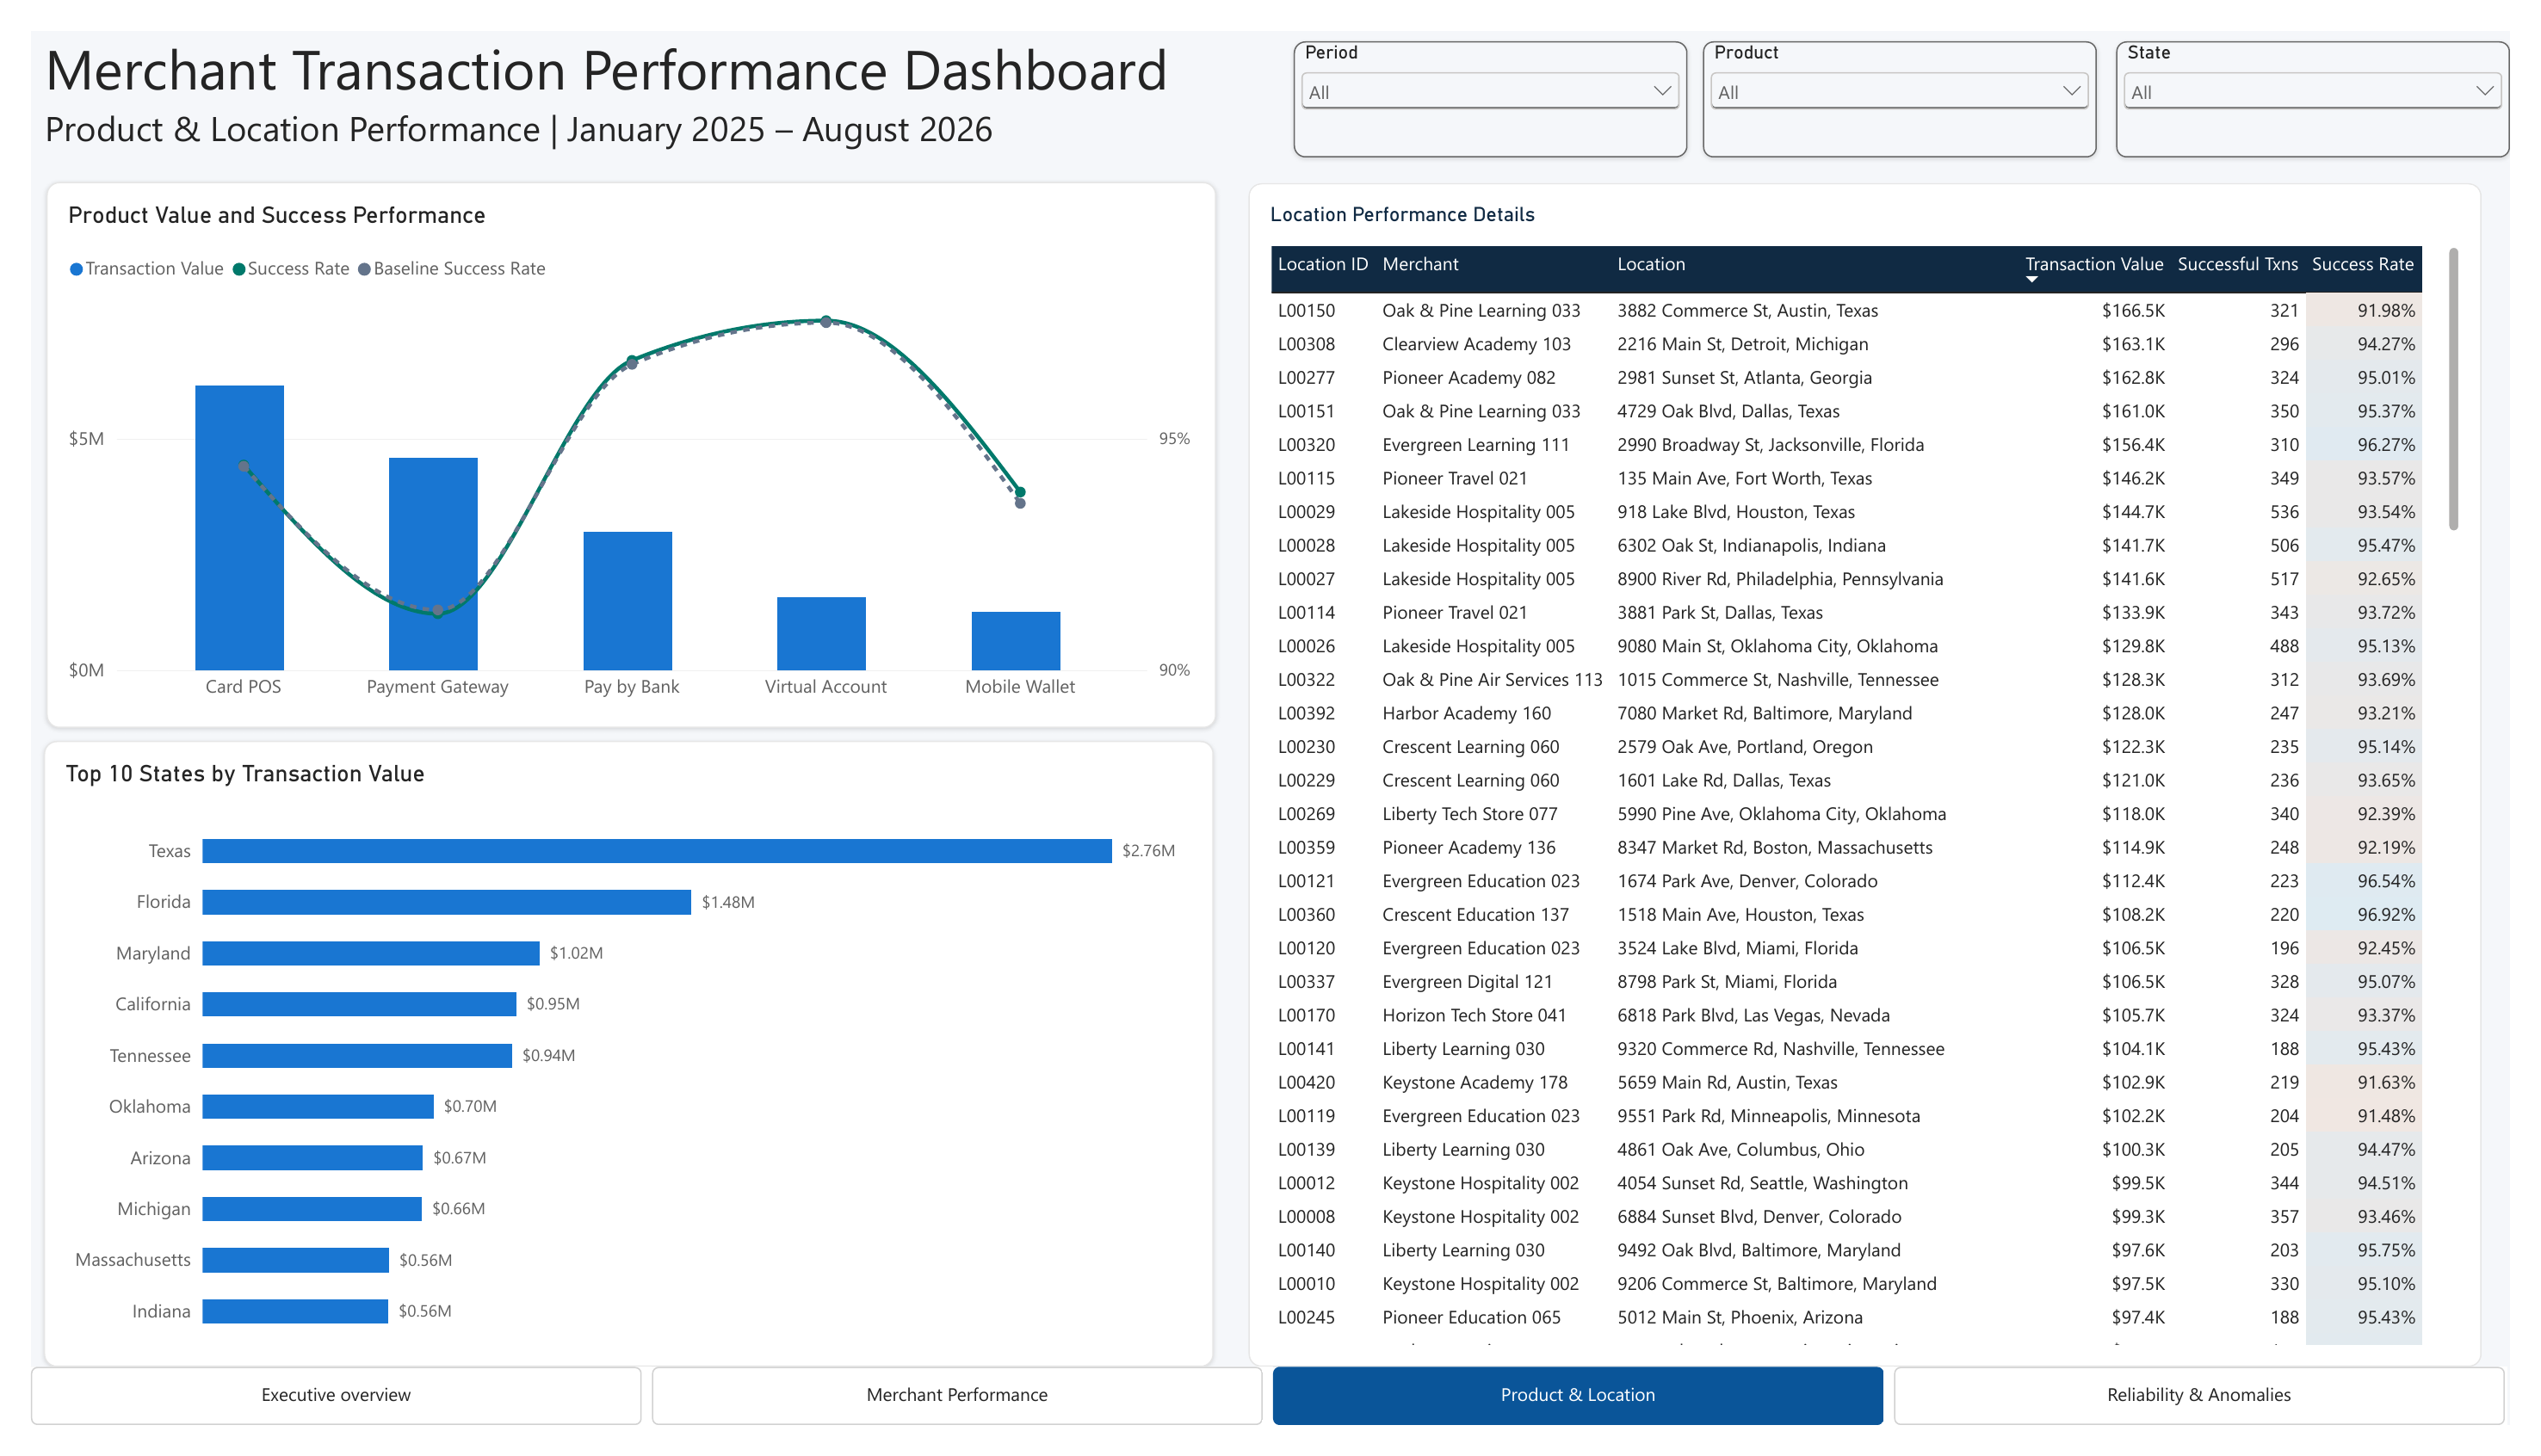

The page's visual inventory and layout, read from the dashboard file:
{"tool":"powerbi","page":{"name":"Product & Location","canvas":[1920,1080],"ordinal":2},"visuals":[{"type":"textbox","box":[10.9,0,906.1,118],"z":0},{"type":"slicer","fields":{"Values":["DimDate.Month Year"]},"box":[977.5,7.5,305,90],"z":1000},{"type":"slicer","fields":{"Values":["locations.state"]},"box":[1615,7.5,305,90],"z":2000},{"type":"slicer","fields":{"Values":["products.product_name"]},"box":[1295,7.5,305,90],"z":3000},{"type":"lineClusteredColumnComboChart","title":"Product Value and Success Performance","fields":{"Category":["products.product_name"],"Y":["_Measures.Transaction Value"],"Y2":["_Measures.Success Rate","_Measures.Baseline Success Rate"]},"box":[12.3,117.1,905.8,423.1],"z":4000},{"type":"clusteredBarChart","title":"Top 10 States by Transaction Value","fields":{"Category":["locations.state"],"Y":["_Measures.Transaction Value"]},"box":[10.3,550.5,905.8,484.7],"z":5000},{"type":"tableEx","title":"Location Performance Details","fields":{"Values":["locations.location_id","locations.Merchant Name","locations.Location Details","_Measures.Transaction Value","_Measures.Transaction Count","_Measures.Success Rate"]},"box":[942.5,117.5,955,917.5],"z":6000},{"type":"pageNavigator","box":[0,1034.8,1918.4,45.2],"z":7000}]}

Visuals, with their boxes in screenshot pixels (x1, y1, x2, y2), scaled from the page's 1920x1080 canvas onto the 2541x1456 screenshot:
textbox: <region>15, 0, 1214, 159</region>
slicer - DimDate.Month Year: <region>1294, 10, 1697, 132</region>
slicer - locations.state: <region>2137, 10, 2540, 132</region>
slicer - products.product_name: <region>1714, 10, 2117, 132</region>
"Product Value and Success Performance" lineClusteredColumnComboChart: <region>16, 157, 1215, 728</region>
"Top 10 States by Transaction Value" clusteredBarChart: <region>14, 742, 1213, 1396</region>
"Location Performance Details" tableEx: <region>1247, 158, 2511, 1396</region>
pageNavigator: <region>0, 1395, 2539, 1455</region>
